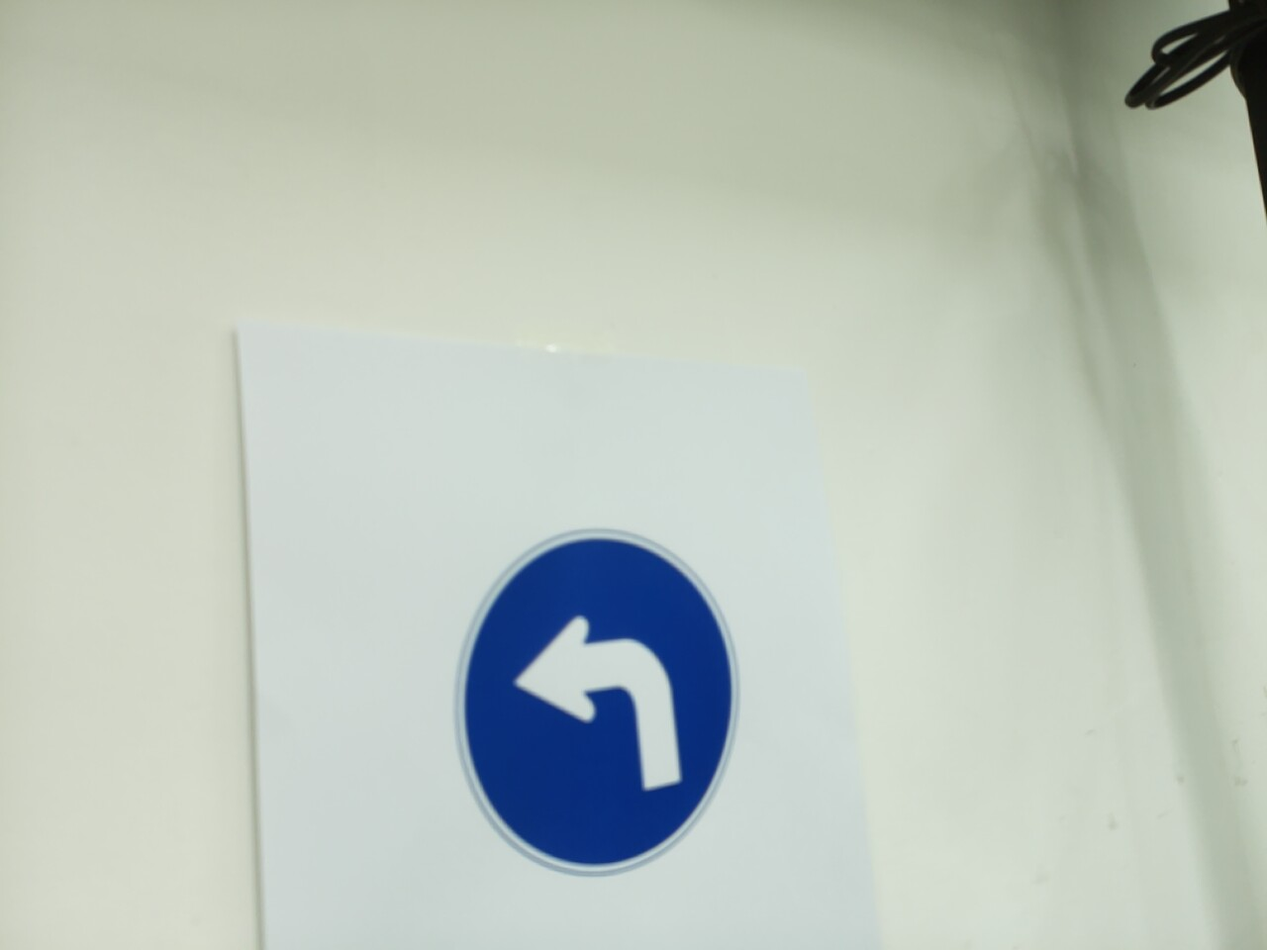left_turn: (455, 528, 740, 875)
